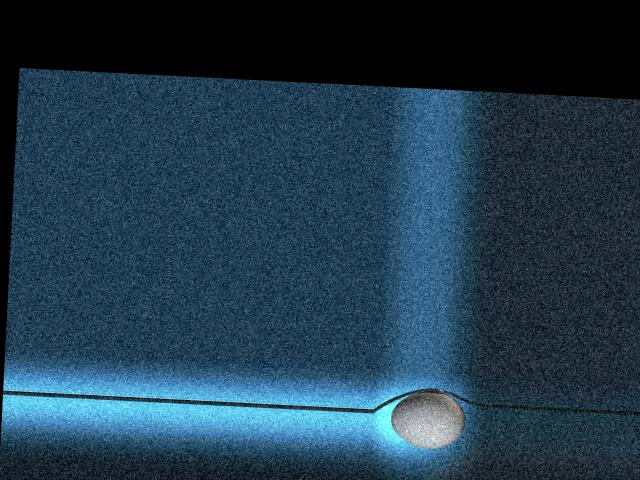egg: (390, 389, 466, 449)
